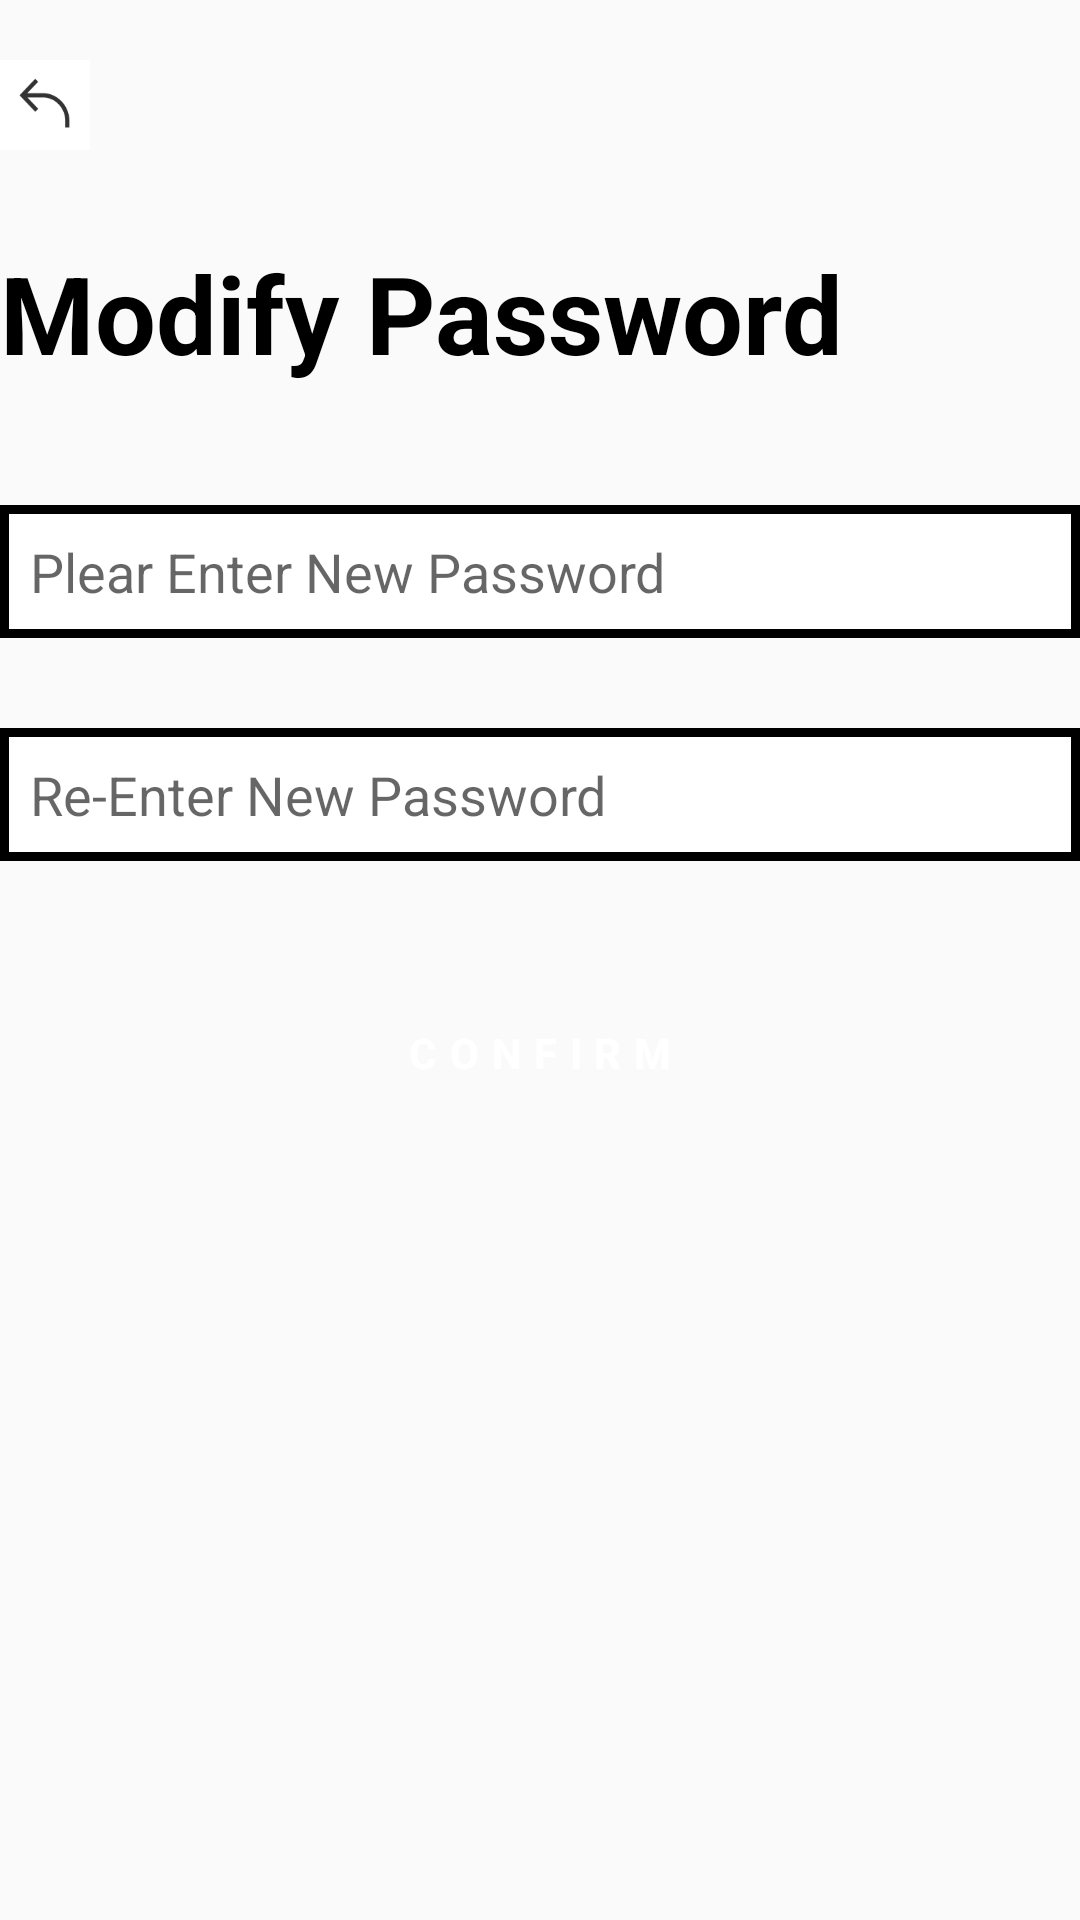

Named icons in this screenshot (1080px x 1920px) and their centers, [x,y]:
backbutton: [44,103]
